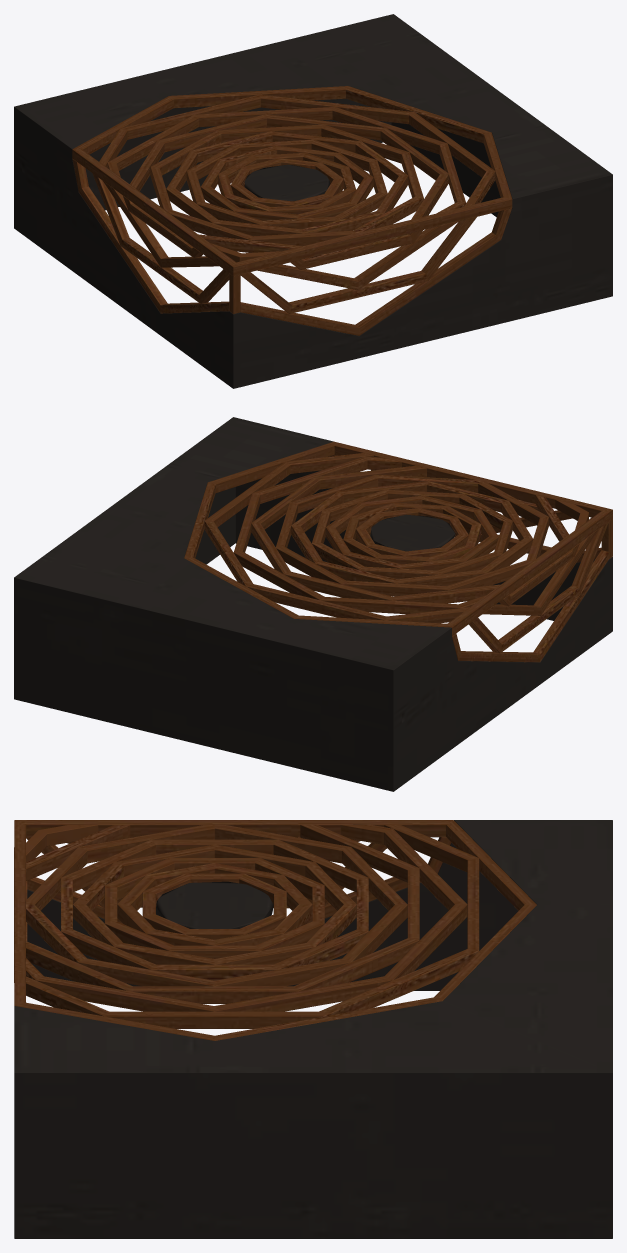
File: modern_coffee_table_02.glb
3 renders of one model, top to bottom at view 1: azimuth 30°, elevation 25°; view 2: azimuth 150°, elevation 25°; view 3: azimuth 270°, elevation 25°, orthographic. The views are drawn at different scales.
Parts seen in each view (by area): view 1: modern_coffee_table_02; view 2: modern_coffee_table_02; view 3: modern_coffee_table_02.
Part boxes in pixels (x1,y1,x2,y2): modern_coffee_table_02: (14, 14, 612, 388); modern_coffee_table_02: (14, 417, 612, 791); modern_coffee_table_02: (14, 820, 612, 1238).
Bounding box in the file's own units: 1.2 × 0.3692 × 1.2.
Materials: 2 (2 with a texture image).
